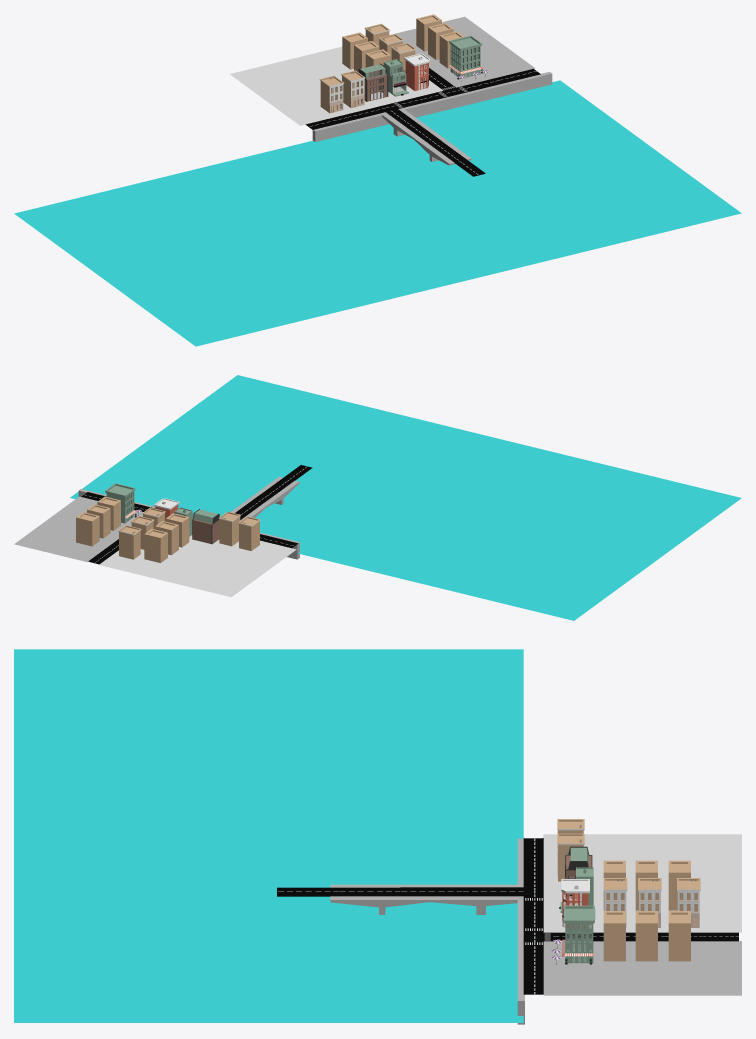
The model's file is city.glb.
3 views of the same model, one above another, from view 1: azimuth 30°, elevation 25°; view 2: azimuth 150°, elevation 25°; view 3: azimuth 270°, elevation 25° (orthographic). The views are drawn at different scales.
Parts seen in each view (by area): view 1: Building_2.002, Building_2.003, Building_2.001, Cube.00777, Building_1, Ground_Asphalt.005; view 2: Building_2.002, Building_2.003, Building_2.001, Cube.00777, Building_1, Ground_Asphalt.005; view 3: Building_2.002, Building_2.003, Building_2.001, Cube.00777, Building_1, Ground_Asphalt.005, Building_5.001.
Boxes of the visible parts, <box> form: Building_2.002: <box>14,80,741,346</box>; Building_2.003: <box>305,16,552,165</box>; Building_2.001: <box>230,46,443,125</box>; Cube.00777: <box>342,14,464,71</box>; Building_1: <box>449,35,482,78</box>; Ground_Asphalt.005: <box>429,141,485,176</box>; Building_2.002: <box>70,375,741,620</box>; Building_2.003: <box>14,477,299,564</box>; Building_2.001: <box>99,535,296,597</box>; Cube.00777: <box>76,496,189,562</box>; Building_1: <box>105,483,135,523</box>; Ground_Asphalt.005: <box>261,465,312,496</box>; Building_2.002: <box>14,649,523,1022</box>; Building_2.003: <box>330,819,741,1024</box>; Building_2.001: <box>543,834,741,932</box>; Cube.00777: <box>603,860,690,961</box>; Building_1: <box>563,905,595,963</box>; Ground_Asphalt.005: <box>277,887,400,896</box>; Building_5.001: <box>561,879,589,901</box>.
Bounding box in the file's own units: 241 × 20.27 × 199.
Materials: 35 (1 with a texture image).
